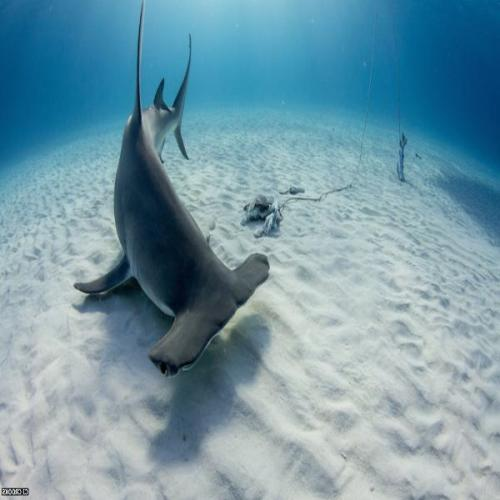shark-endangered: (76, 0, 268, 375)
